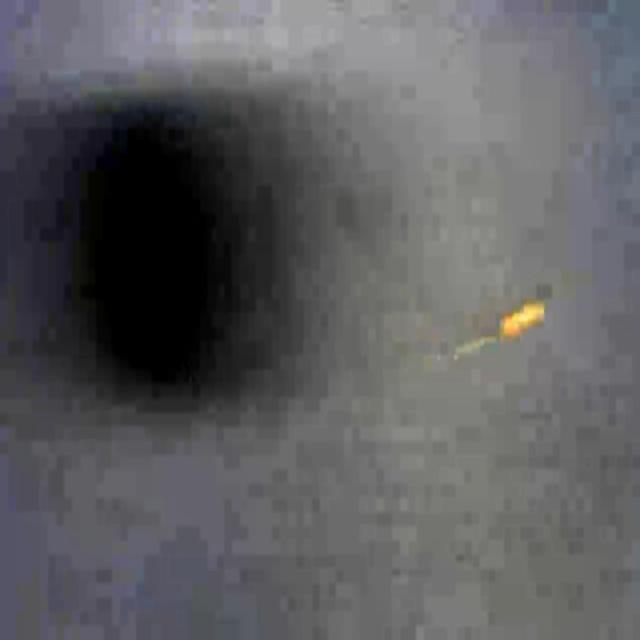resistor: (439, 282, 593, 355)
